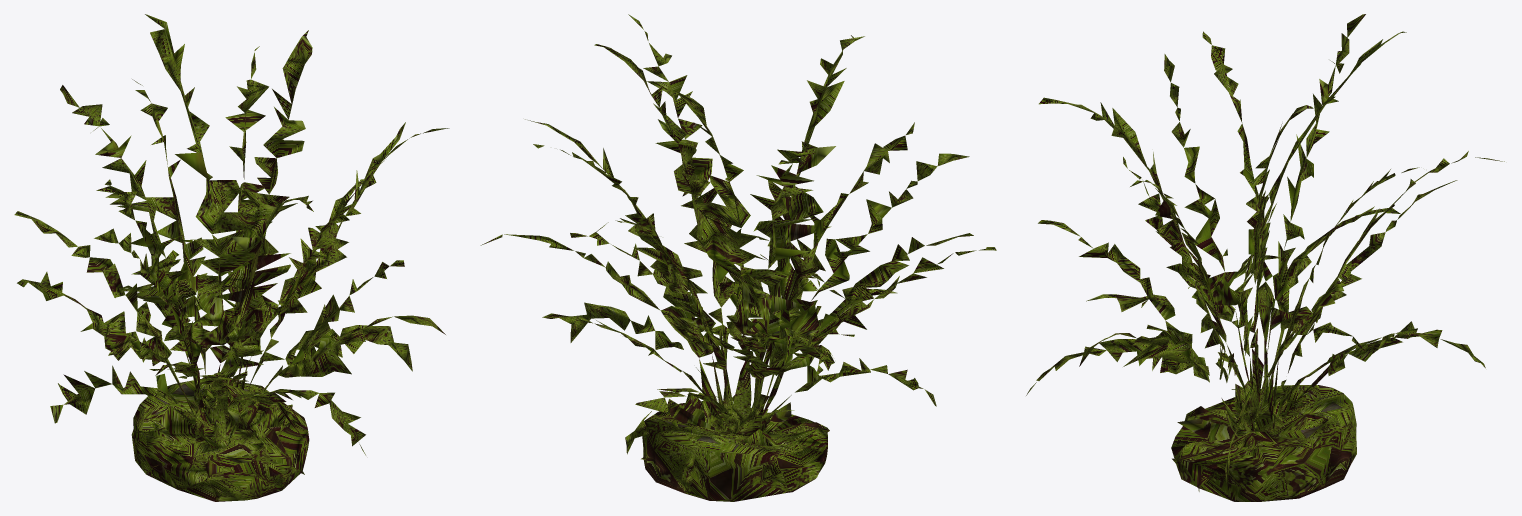
File: fern_tripo.glb
3 renders of one model, left to right at view 1: azimuth 30°, elevation 25°; view 2: azimuth 150°, elevation 25°; view 3: azimuth 270°, elevation 25°, orthographic. The views are drawn at different scales.
Parts seen in each view (by area): view 1: tripo_node_f057e157-afa0-480f-8cd1-e2bbc8264ba5; view 2: tripo_node_f057e157-afa0-480f-8cd1-e2bbc8264ba5; view 3: tripo_node_f057e157-afa0-480f-8cd1-e2bbc8264ba5.
Part boxes in pixels (x1,y1,x2,y2): tripo_node_f057e157-afa0-480f-8cd1-e2bbc8264ba5: [14, 14, 449, 501]; tripo_node_f057e157-afa0-480f-8cd1-e2bbc8264ba5: [480, 14, 996, 501]; tripo_node_f057e157-afa0-480f-8cd1-e2bbc8264ba5: [1026, 14, 1504, 501].
Size of the model in its own units: 0.9264 by 0.9652 by 0.9765.
Materials: 1 (1 with a texture image).
